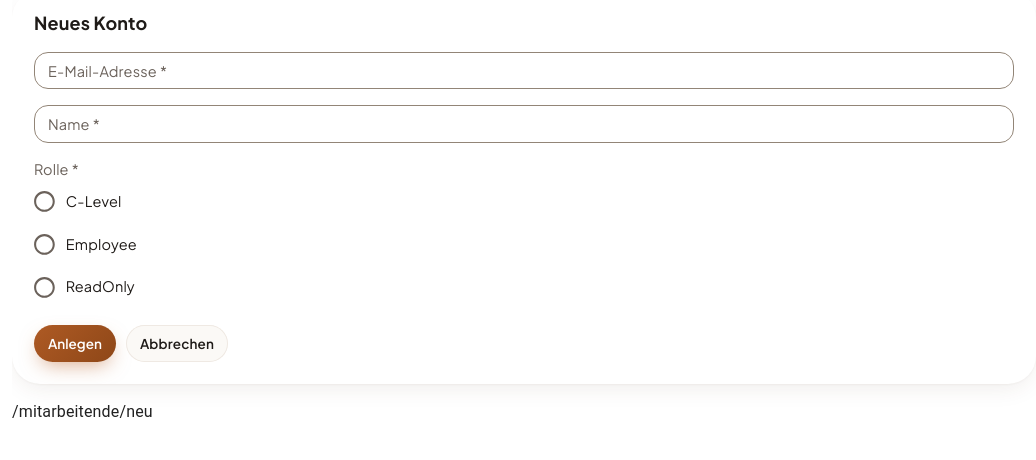
Scenario: MitarbeiterMaske — Anlegen › zeigt die vergebene Adresse am Feld
This screenshot has width=1036, height=460.
Type "anna@firma.de" into the field labelled "E-Mail-Adresse *" at (524, 70), box [34,52,1014,89]
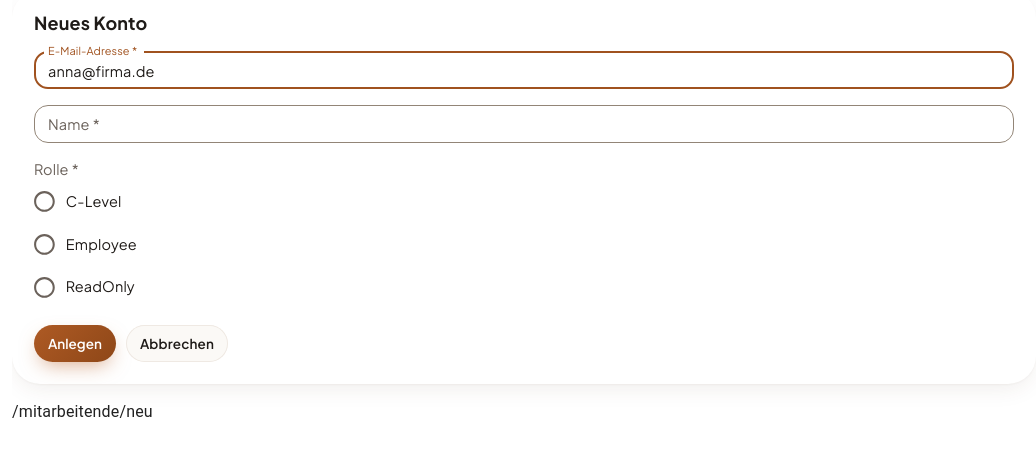
Type "Anna Berg" into the field labelled "Name *" at (524, 124), box [34,105,1014,143]
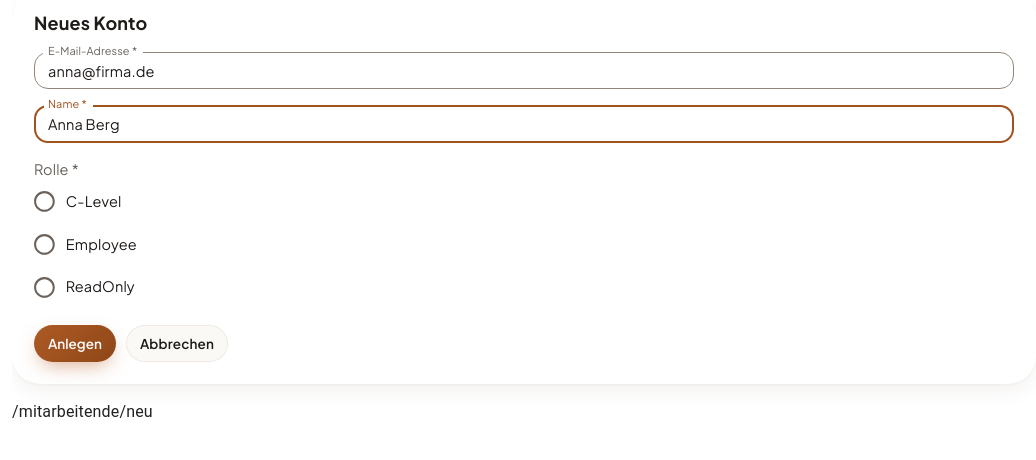
Click the radio button labelled "Employee" at (84, 244), box [32,232,137,257]
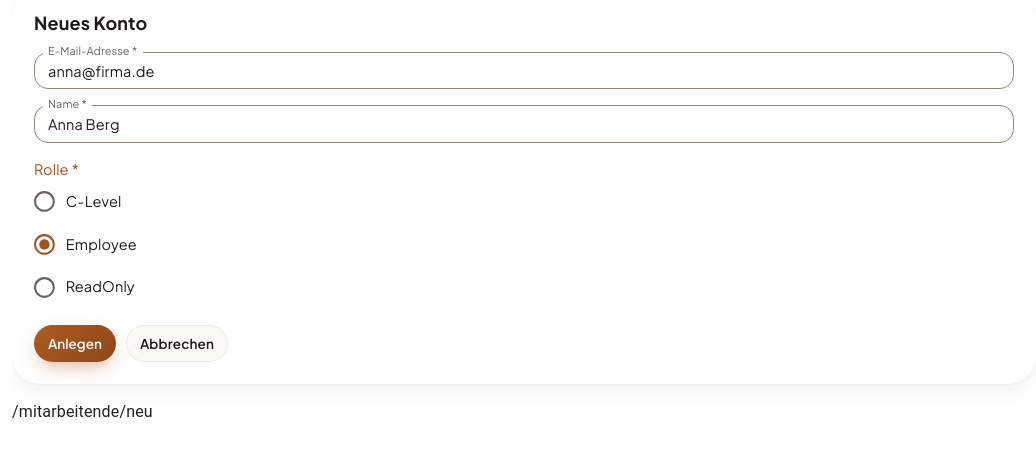
Click the button "Anlegen" at (75, 344), box [34,325,116,362]
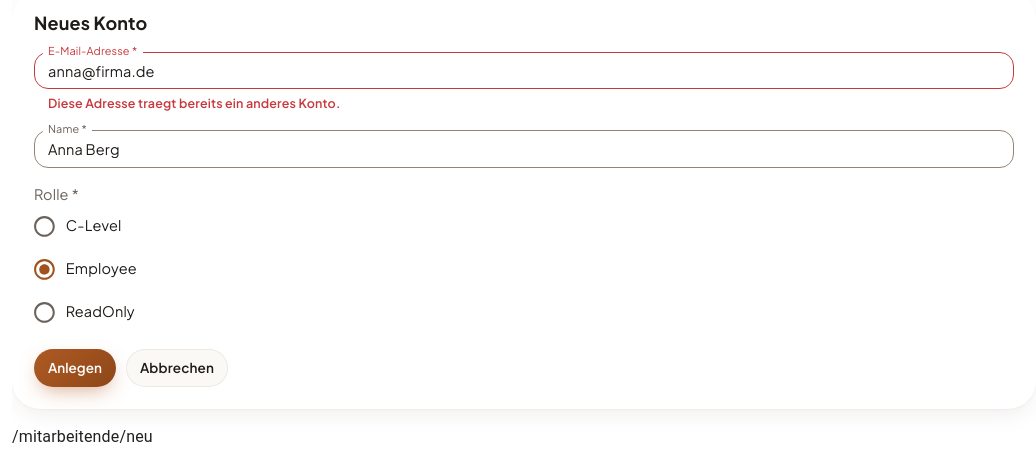
Expected: the text "Diese Adresse traegt bereits ein anderes Konto." is shown, [48,95,340,111]
